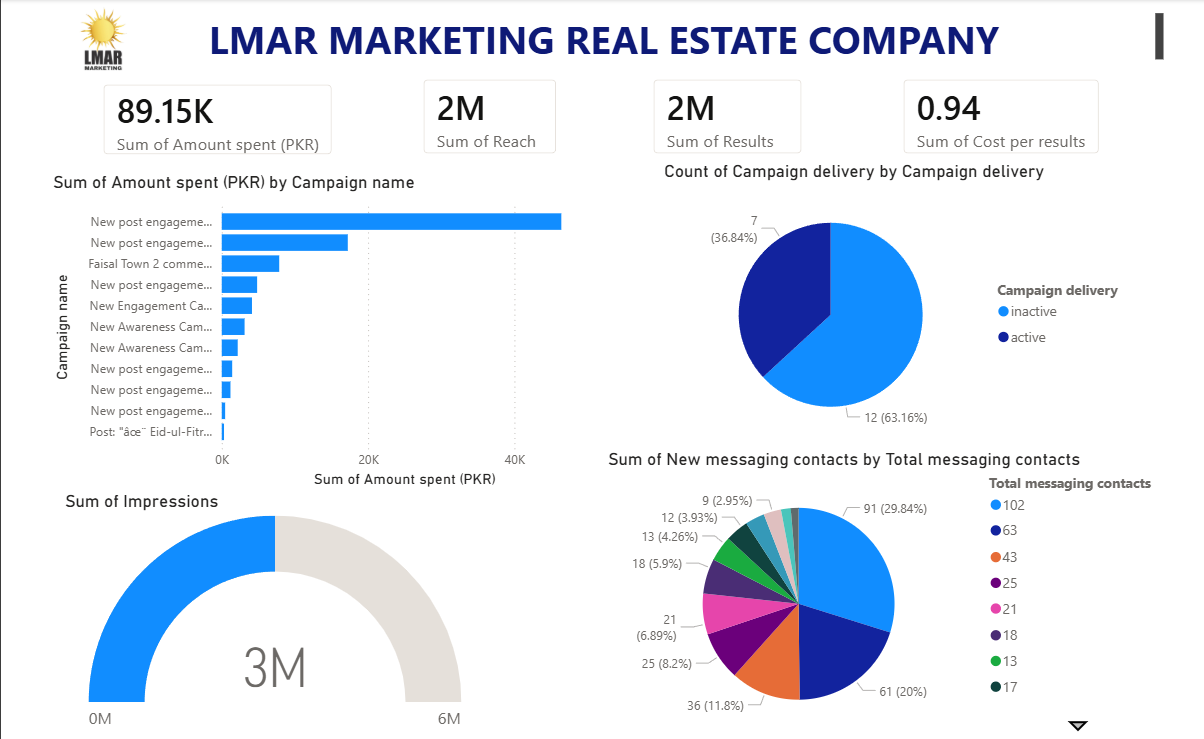

What the dashboard file says about the page in this screenshot:
{"tool":"powerbi","page":{"name":"Page 1","canvas":[1280,720],"ordinal":0},"visuals":[{"type":"cardVisual","fields":{"Data":["Sum(Sheet1.Amount spent (PKR))"]},"box":[82.7,66.1,256.8,102.1],"z":0},{"type":"cardVisual","fields":{"Data":["Sum(Sheet1.Reach)"]},"box":[393.9,61.3,163.4,107],"z":1000},{"type":"cardVisual","fields":{"Data":["Sum(Sheet1.Results)"]},"box":[617.6,61.3,179,107],"z":2000},{"type":"cardVisual","fields":{"Data":["Sum(Sheet1.Cost per results)"]},"box":[860.8,61.3,224.7,107],"z":3000},{"type":"barChart","fields":{"Category":["Sheet1.Campaign name"],"Y":["Sum(Sheet1.Amount spent (PKR))"]},"box":[45.7,168.3,539.8,311.2],"z":4000},{"type":"pieChart","fields":{"Category":["Sheet1.Campaign delivery"],"Y":["CountNonNull(Sheet1.Campaign delivery)"]},"box":[640,157.6,465.9,280.1],"z":5000},{"type":"pieChart","fields":{"Category":["Sheet1.Total messaging contacts"],"Y":["Sum(Sheet1.New messaging contacts)"]},"box":[585.5,437.7,550.5,282.1],"z":6000},{"type":"gauge","fields":{"Y":["Sum(Sheet1.Impressions)"]},"box":[57.4,478.5,418.2,241.2],"z":7000},{"type":"textbox","box":[45.7,8.8,1090.3,57.4],"z":8000},{"type":"image","box":[65.2,0,68.1,74.9],"z":8001}]}

Visuals, with their boxes on the page's 1280x720 design canvas (x1, y1, x2, y2). These are canvas units, not pixel positions in the 1204x739 screenshot, which may show the page scaled, cropped or inside an application window:
cardVisual - Sum(Sheet1.Amount spent (PKR)): <bbox>83, 66, 340, 168</bbox>
cardVisual - Sum(Sheet1.Reach): <bbox>394, 61, 557, 168</bbox>
cardVisual - Sum(Sheet1.Results): <bbox>618, 61, 797, 168</bbox>
cardVisual - Sum(Sheet1.Cost per results): <bbox>861, 61, 1086, 168</bbox>
barChart - Sheet1.Campaign name x Sum(Sheet1.Amount spent (PKR)): <bbox>46, 168, 586, 480</bbox>
pieChart - Sheet1.Campaign delivery x CountNonNull(Sheet1.Campaign delivery): <bbox>640, 158, 1106, 438</bbox>
pieChart - Sheet1.Total messaging contacts x Sum(Sheet1.New messaging contacts): <bbox>586, 438, 1136, 720</bbox>
gauge - Sum(Sheet1.Impressions): <bbox>57, 478, 476, 720</bbox>
textbox: <bbox>46, 9, 1136, 66</bbox>
image: <bbox>65, 0, 133, 75</bbox>
